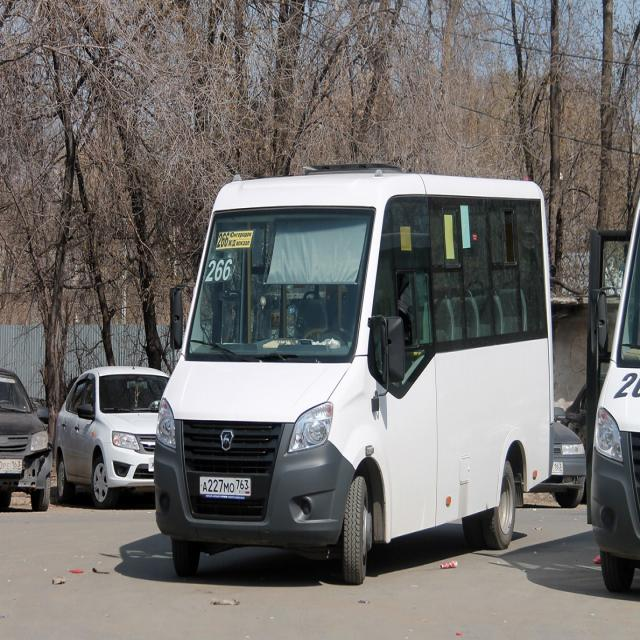number-of-bus: (206, 259, 234, 284), (217, 233, 231, 249)
